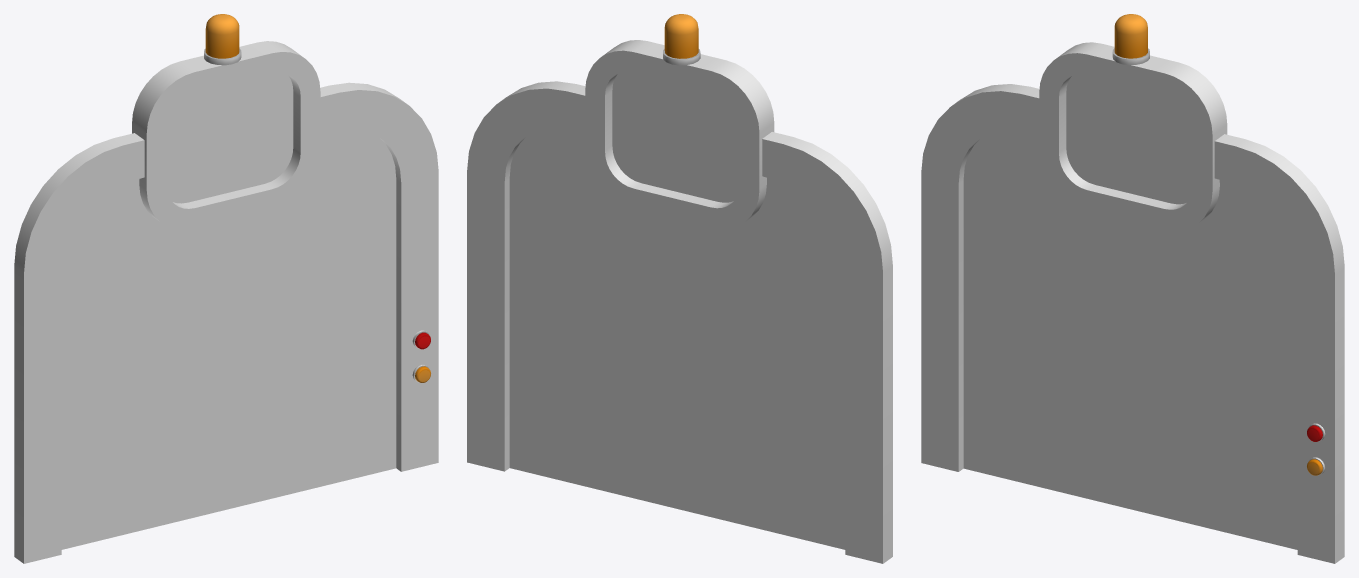
Rendered from baby_boss_cevre_modelleri_kapi.fbx.
3 renders of one model, left to right at view 1: azimuth 30°, elevation 25°; view 2: azimuth 150°, elevation 25°; view 3: azimuth 330°, elevation 25°, orthographic.
Parts seen in each view (by area): view 1: baby_boss_kapi_image_plane1, baby_boss_kapi, baby_boss_kapi_image_plane2, baby_boss_kapi_siren; view 2: baby_boss_kapi_image_plane1, baby_boss_kapi, baby_boss_kapi_image_plane2, baby_boss_kapi_siren; view 3: baby_boss_kapi_image_plane1, baby_boss_kapi, baby_boss_kapi_image_plane2, baby_boss_kapi_siren.
Boxes of the visible parts, bbox=[...] form: baby_boss_kapi_image_plane1: bbox=[61, 130, 396, 549]; baby_boss_kapi: bbox=[14, 41, 438, 563]; baby_boss_kapi_image_plane2: bbox=[166, 73, 293, 203]; baby_boss_kapi_siren: bbox=[204, 14, 241, 65]; baby_boss_kapi_image_plane1: bbox=[509, 129, 845, 549]; baby_boss_kapi: bbox=[467, 40, 892, 563]; baby_boss_kapi_image_plane2: bbox=[612, 72, 739, 202]; baby_boss_kapi_siren: bbox=[663, 14, 700, 65]; baby_boss_kapi_image_plane1: bbox=[963, 131, 1297, 549]; baby_boss_kapi: bbox=[921, 42, 1344, 563]; baby_boss_kapi_image_plane2: bbox=[1066, 74, 1192, 204]; baby_boss_kapi_siren: bbox=[1112, 14, 1149, 65].
Bounding box in the file's own units: 2.2 × 2.5 × 0.1762.
